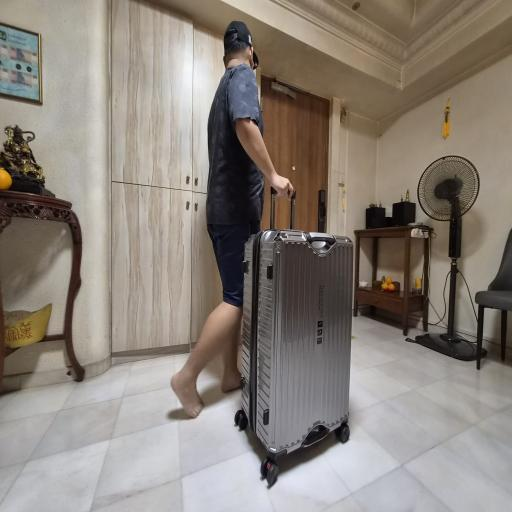person_right: (163, 17, 363, 484)
